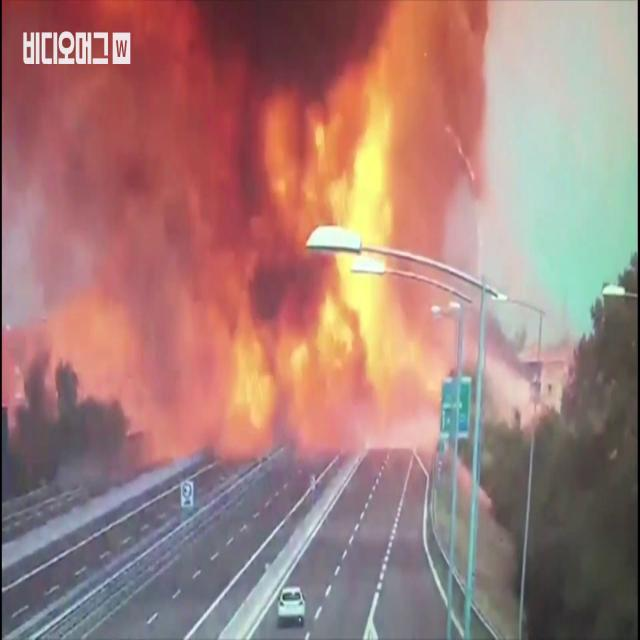explosion: (0, 6, 540, 508)
